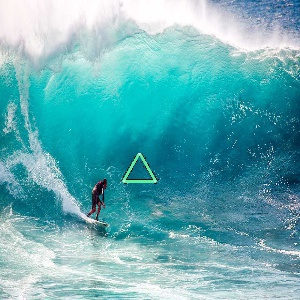triangle: (119, 151, 159, 184)
